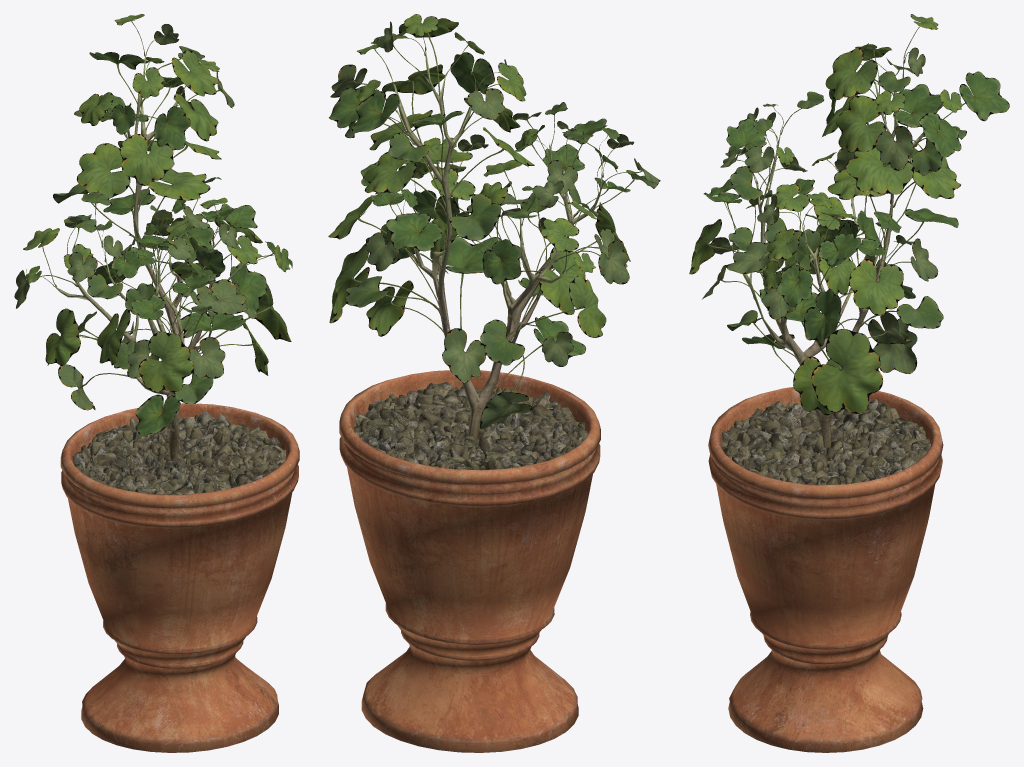
File: plant-pot.glb
The picture shows the model from 3 angles, left to right: view 1: azimuth 30°, elevation 25°; view 2: azimuth 150°, elevation 25°; view 3: azimuth 270°, elevation 25°; orthographic projection. The views are drawn at different scales.
Visible parts, largest first — view 1: potted_plant_01_stem, potted_plant_01_leaves; view 2: potted_plant_01_stem, potted_plant_01_leaves; view 3: potted_plant_01_stem, potted_plant_01_leaves.
Part boxes in pixels (bbox=[...]): potted_plant_01_stem: bbox=[54, 55, 299, 752]; potted_plant_01_leaves: bbox=[14, 14, 292, 436]; potted_plant_01_stem: bbox=[339, 50, 602, 752]; potted_plant_01_leaves: bbox=[328, 14, 660, 429]; potted_plant_01_stem: bbox=[708, 57, 943, 752]; potted_plant_01_leaves: bbox=[689, 14, 1009, 415].
Size of the model in its own units: 0.5 by 1.19 by 0.5.
2 materials, 2 textured.
